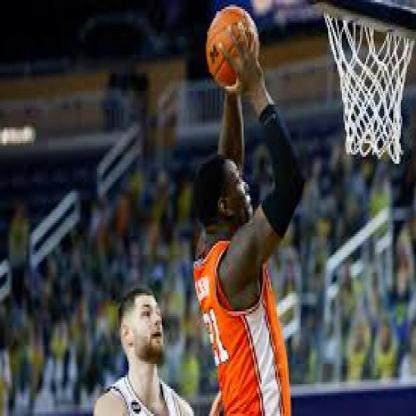basketball: (207, 7, 259, 89)
